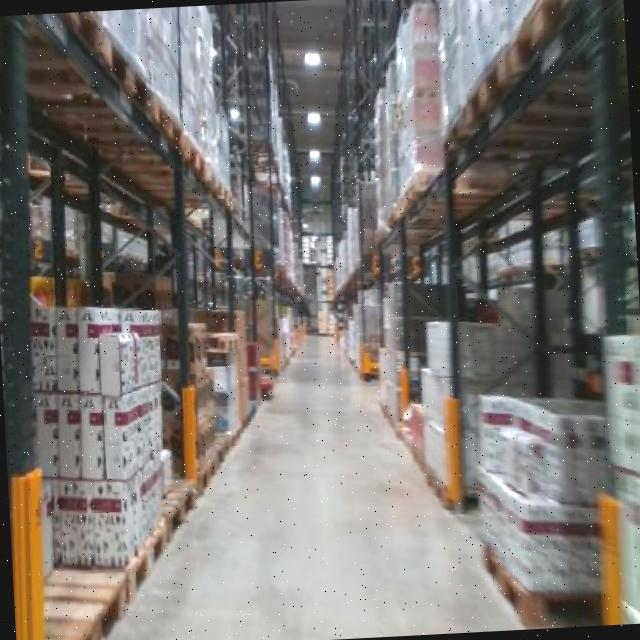pallet: (436, 0, 616, 158), (464, 532, 624, 632), (12, 556, 134, 640), (388, 164, 536, 226), (116, 505, 180, 598), (154, 461, 214, 540), (192, 444, 232, 494)
